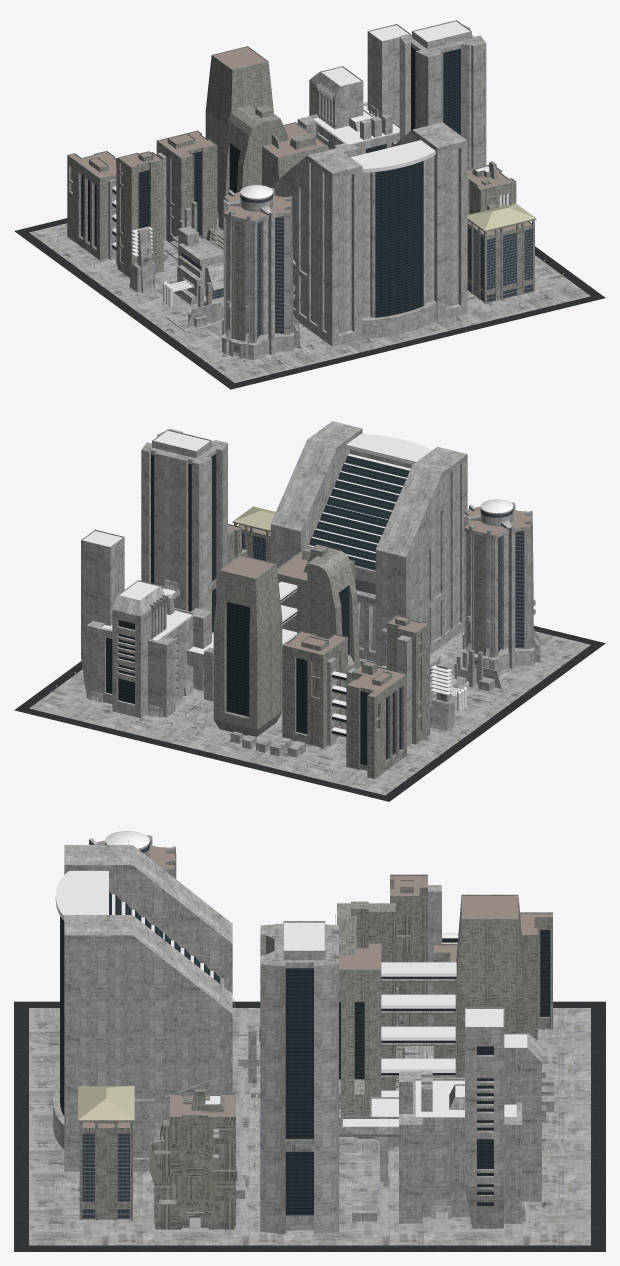
The model's file is Builds1.FBX.
3 views of the same model, one above another, from view 1: azimuth 30°, elevation 25°; view 2: azimuth 150°, elevation 25°; view 3: azimuth 270°, elevation 25° (orthographic). The views are drawn at different scales.
Visible parts, largest first — view 1: Block02_1; view 2: Block02_1; view 3: Block02_1.
Part boxes in pixels (x1=…): Block02_1: x1=14, y1=20, x2=605, y2=389; Block02_1: x1=14, y1=421, x2=605, y2=801; Block02_1: x1=14, y1=831, x2=605, y2=1251.
Size of the model in its own units: 2.44 by 1.27 by 2.44.
